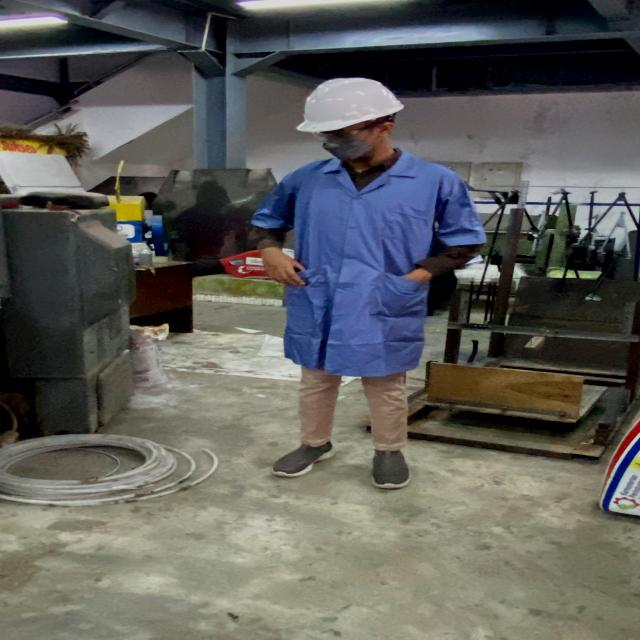face_mask: (308, 122, 379, 164)
glasses: (306, 119, 398, 142)
hand_noglove: (257, 250, 317, 290)
head_helmet: (297, 74, 406, 134)
person: (239, 74, 492, 501)
shoes: (262, 434, 341, 484), (357, 440, 417, 492)
